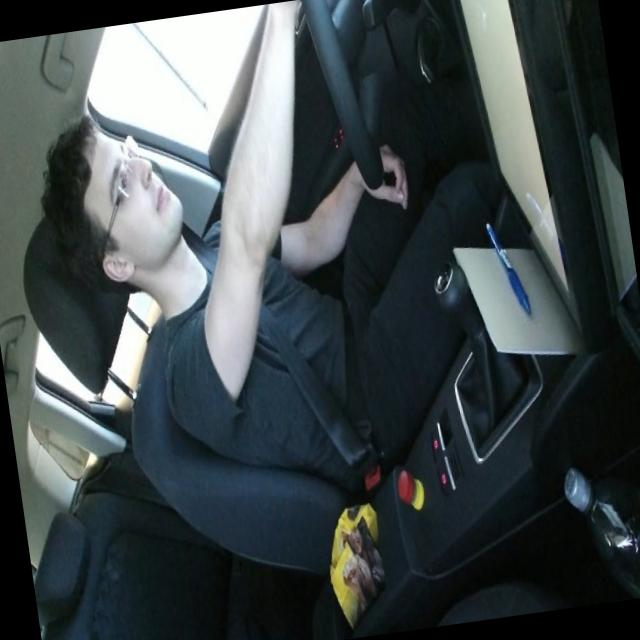pen: (484, 216, 532, 320)
